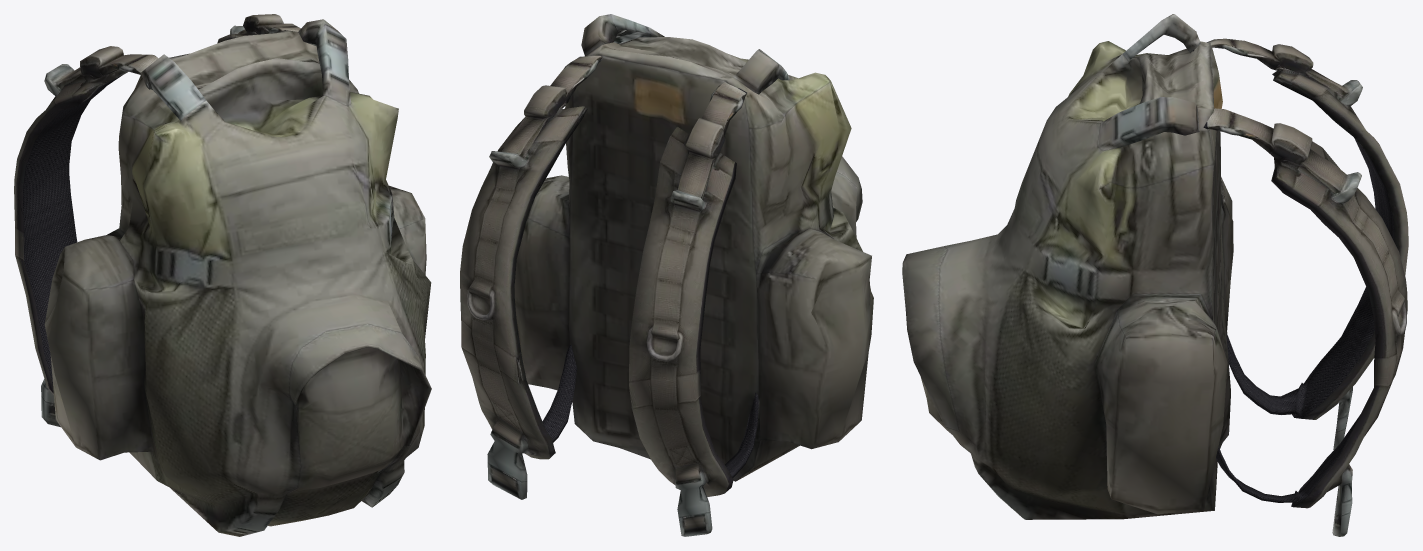
The model's file is backpack.glb.
3 views of the same model, side by side, from view 1: azimuth 30°, elevation 25°; view 2: azimuth 150°, elevation 25°; view 3: azimuth 270°, elevation 25° (orthographic). The views are drawn at different scales.
Visible parts, largest first — view 1: default645456_Material #10_0, default00112331_Material #12_0; view 2: default645456_Material #10_0, default00112331_Material #12_0; view 3: default645456_Material #10_0, default00112331_Material #12_0.
Boxes of the visible parts, x1,y1,x2,y2 form: default645456_Material #10_0: [44, 19, 431, 536]; default00112331_Material #12_0: [14, 14, 300, 427]; default645456_Material #10_0: [514, 14, 873, 481]; default00112331_Material #12_0: [460, 55, 758, 536]; default645456_Material #10_0: [902, 14, 1233, 519]; default00112331_Material #12_0: [1192, 38, 1408, 536].
Bounding box in the file's own units: 0.5283 × 0.6061 × 0.6266.
Materials: 2 (2 with a texture image).
